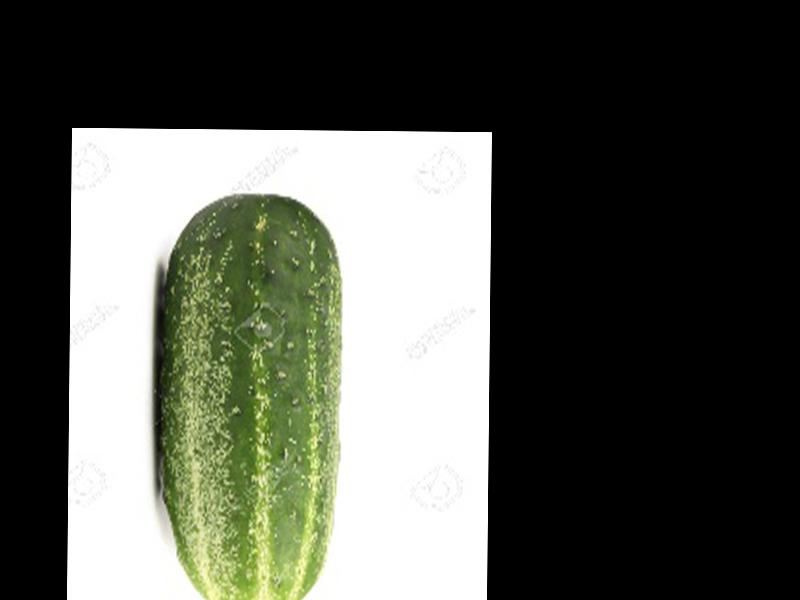Cucumber: (155, 190, 342, 600)
